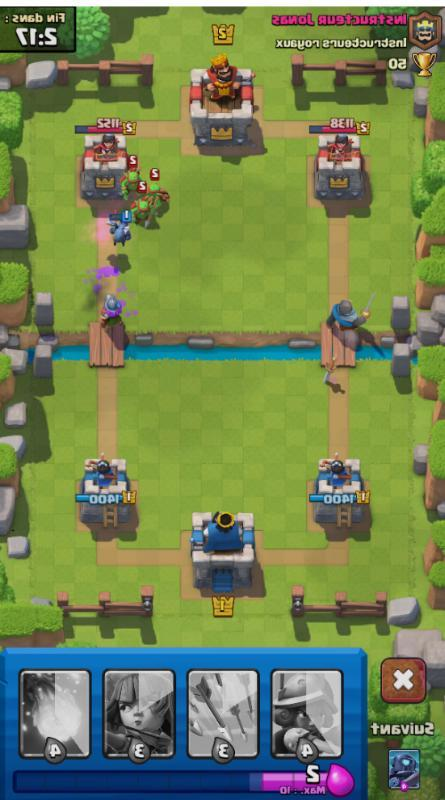enemy_spear_goblins: (130, 191, 161, 224), (141, 172, 171, 206), (117, 166, 145, 195)
player_knight: (322, 291, 377, 333)
player_minions: (103, 211, 136, 248)
player_musketeer: (91, 288, 137, 333)
